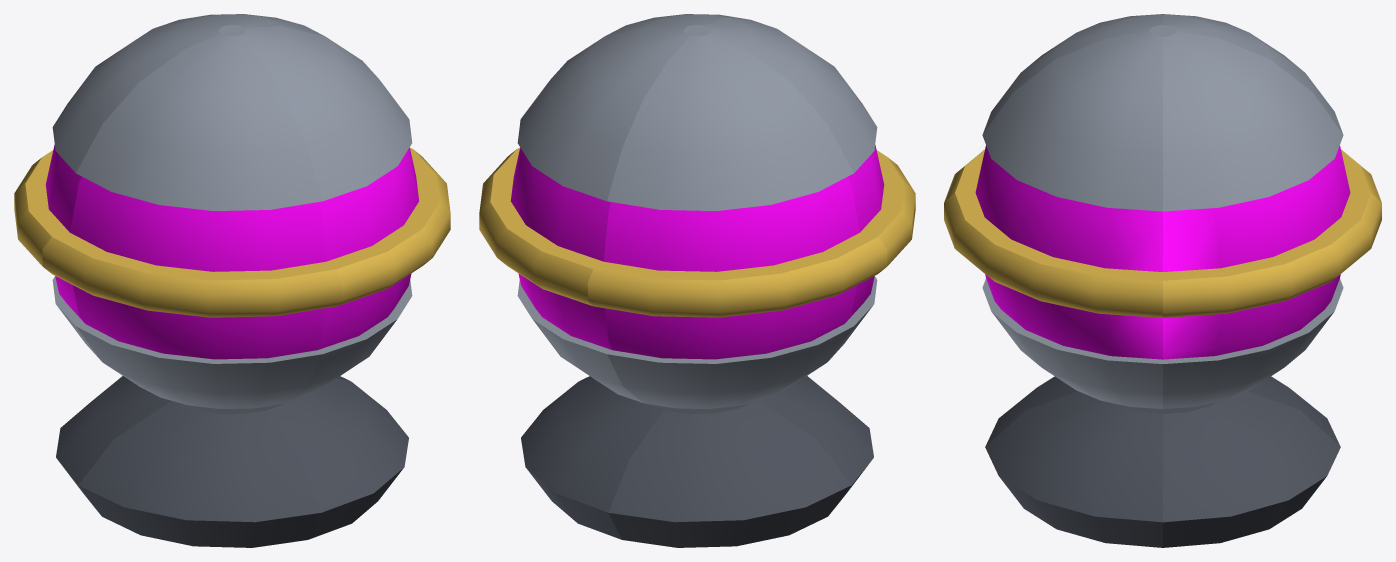
Rendered from objet_capsule_fusion.glb.
The picture shows the model from 3 angles, left to right: view 1: azimuth 30°, elevation 25°; view 2: azimuth 150°, elevation 25°; view 3: azimuth 270°, elevation 25°; orthographic projection.
Visible parts, largest first — view 1: capsule_metal_sci.002, capsule_metal_sci_sombre.002, capsule_teinte.002, capsule_laiton.002; view 2: capsule_metal_sci.002, capsule_metal_sci_sombre.002, capsule_teinte.002, capsule_laiton.002; view 3: capsule_metal_sci.002, capsule_metal_sci_sombre.002, capsule_teinte.002, capsule_laiton.002.
Part boxes in pixels (box(x1,y1,x2,y2)): capsule_metal_sci.002: box(52, 14, 412, 408); capsule_metal_sci_sombre.002: box(56, 376, 408, 547); capsule_teinte.002: box(45, 145, 418, 359); capsule_laiton.002: box(14, 147, 450, 317); capsule_metal_sci.002: box(517, 14, 877, 408); capsule_metal_sci_sombre.002: box(521, 376, 873, 547); capsule_teinte.002: box(511, 145, 884, 359); capsule_laiton.002: box(479, 147, 915, 317); capsule_metal_sci.002: box(982, 14, 1343, 408); capsule_metal_sci_sombre.002: box(985, 376, 1340, 547); capsule_teinte.002: box(975, 145, 1350, 359); capsule_laiton.002: box(944, 149, 1381, 317).
Size of the model in its own units: 0.16 by 0.1828 by 0.16.
